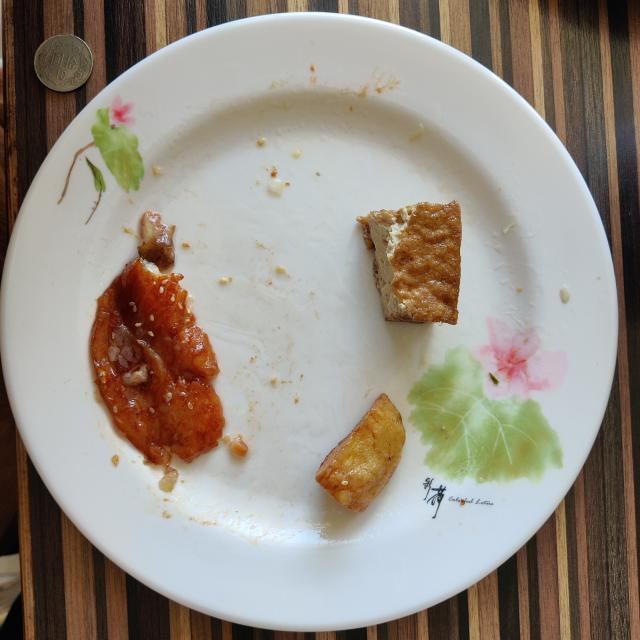Kabayaki sea bream fillet: (91, 211, 225, 481)
coin: (34, 34, 92, 91)
egg tofu: (358, 201, 461, 325)
fried potato: (316, 394, 405, 512)
